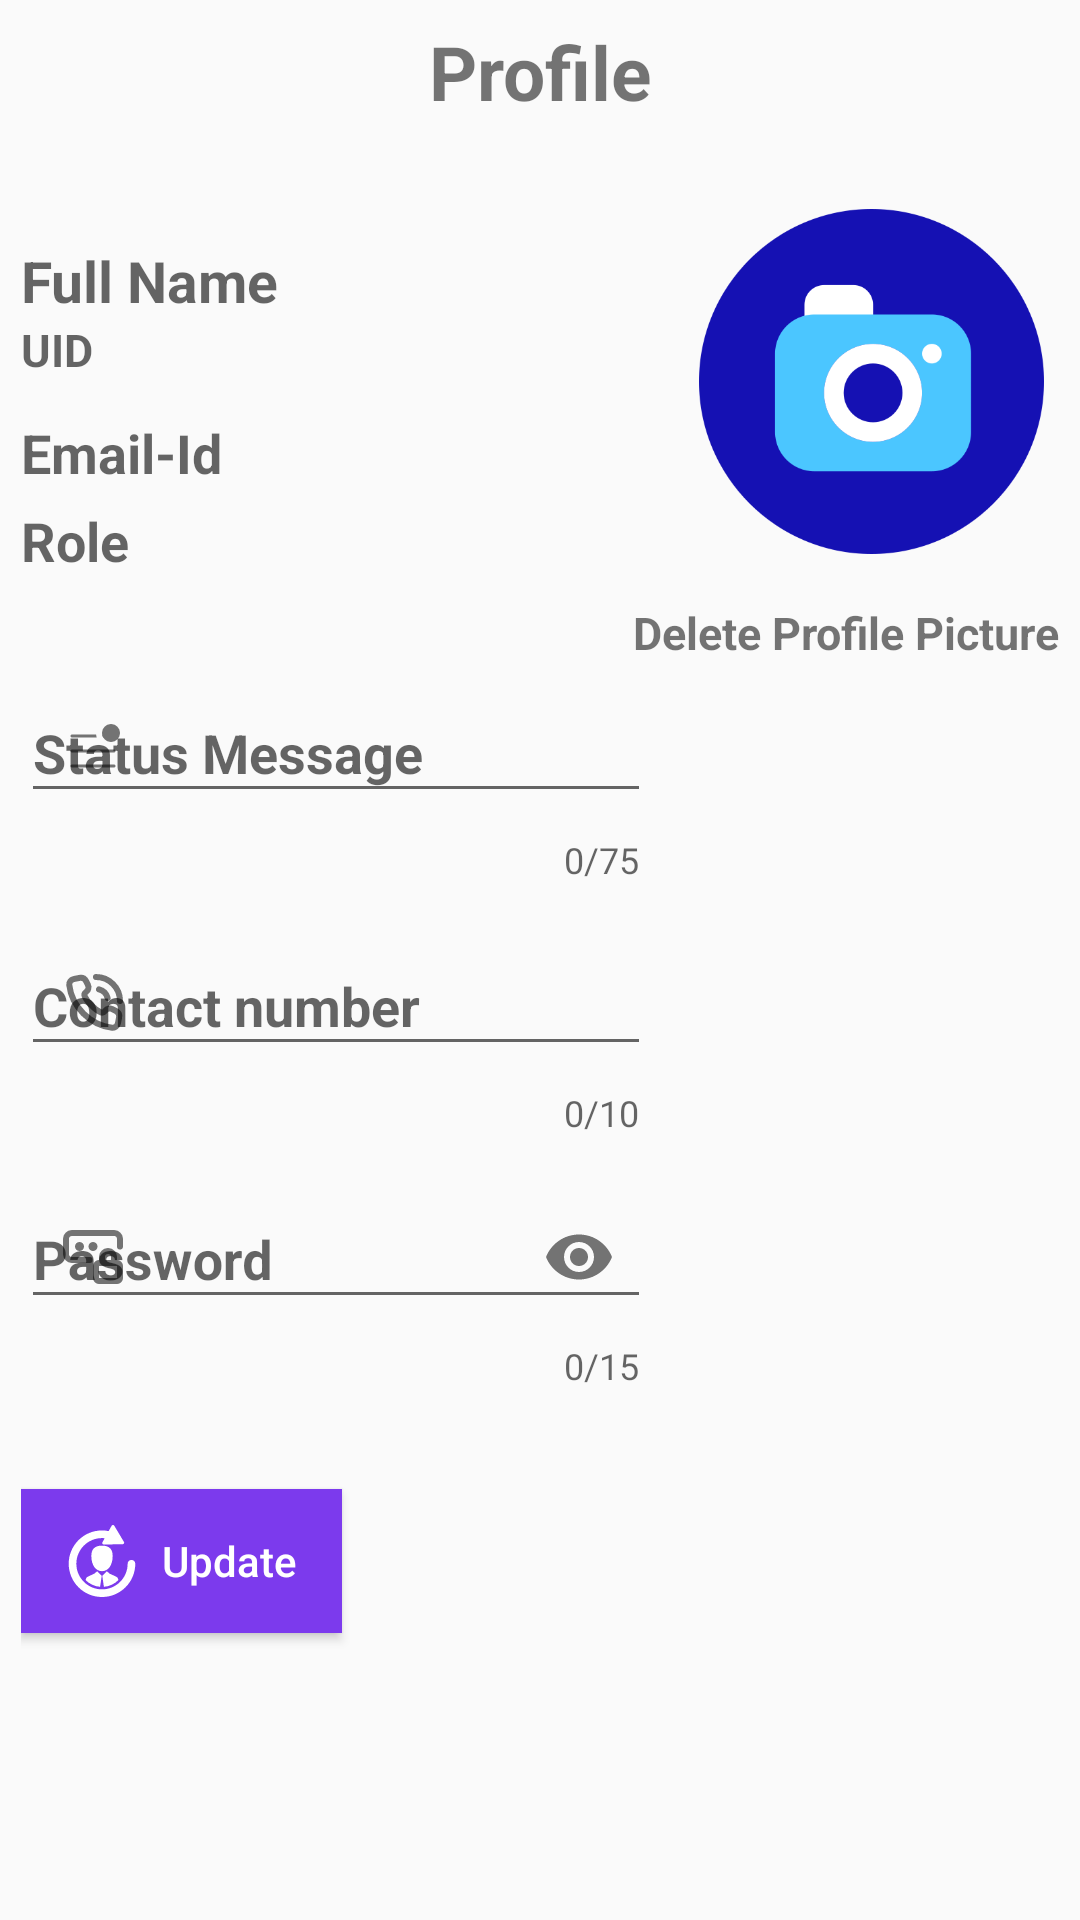

Icons on this 1080 x 1920 Android screen, each with its box as bbox(x1, y1, x2, y2):
add camera photo: bbox(699, 209, 1044, 554)
